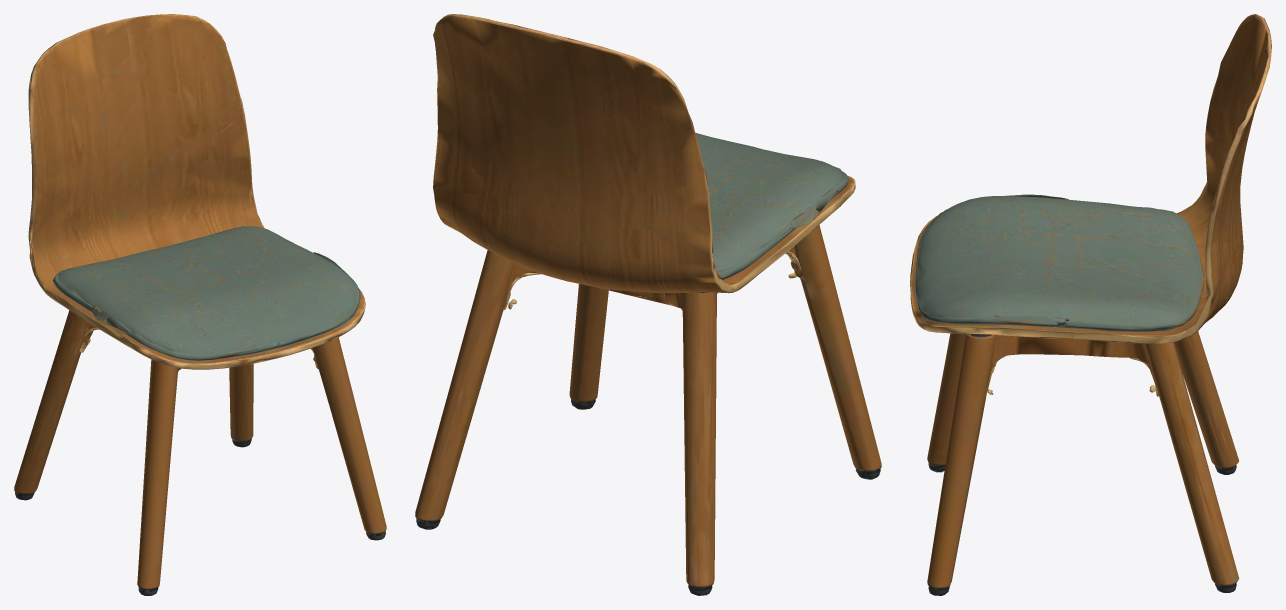
Rendered from chair_dining_wood.glb.
3 views of the same model, side by side, from view 1: azimuth 30°, elevation 25°; view 2: azimuth 150°, elevation 25°; view 3: azimuth 270°, elevation 25° (orthographic). The views are drawn at different scales.
Parts seen in each view (by area): view 1: prop; view 2: prop; view 3: prop.
Part boxes in pixels (left/top/right/bottom): prop: left=14, top=14, right=386, bottom=595; prop: left=415, top=14, right=881, bottom=595; prop: left=910, top=14, right=1271, bottom=595.
Size of the model in its own units: 0.5453 by 0.92 by 0.6224.
1 material, 1 textured.
